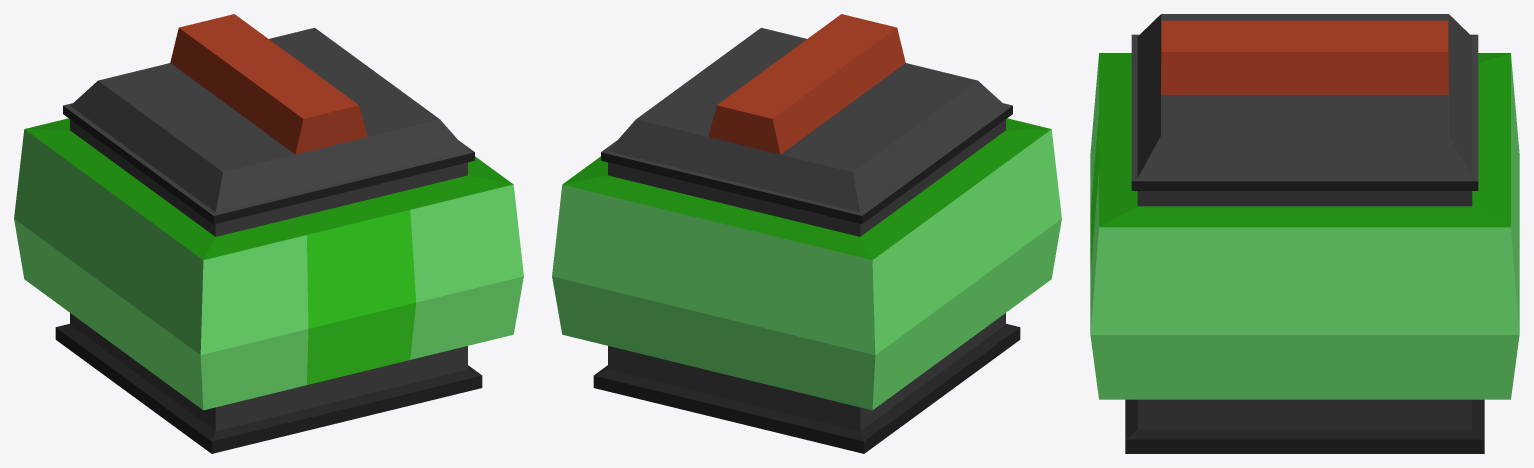
The model's file is healBox_mod_01.fbx.
3 views of the same model, side by side, from view 1: azimuth 30°, elevation 25°; view 2: azimuth 150°, elevation 25°; view 3: azimuth 270°, elevation 25° (orthographic). The views are drawn at different scales.
Visible parts, largest first — view 1: Cube; view 2: Cube; view 3: Cube.
Boxes of the visible parts, bbox=[...] form: Cube: bbox=[14, 14, 523, 453]; Cube: bbox=[552, 14, 1061, 453]; Cube: bbox=[1090, 14, 1519, 453].
Size of the model in its own units: 2.56 by 2.56 by 2.25.
